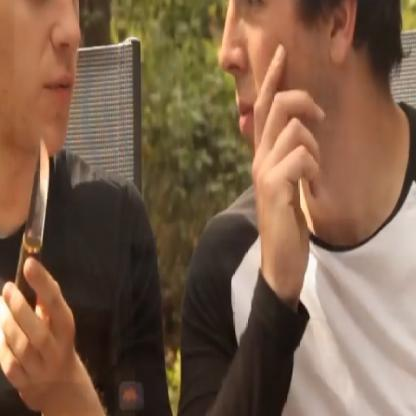knife: (0, 117, 78, 415)
